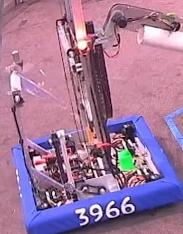blue_number: (73, 193, 138, 229)
